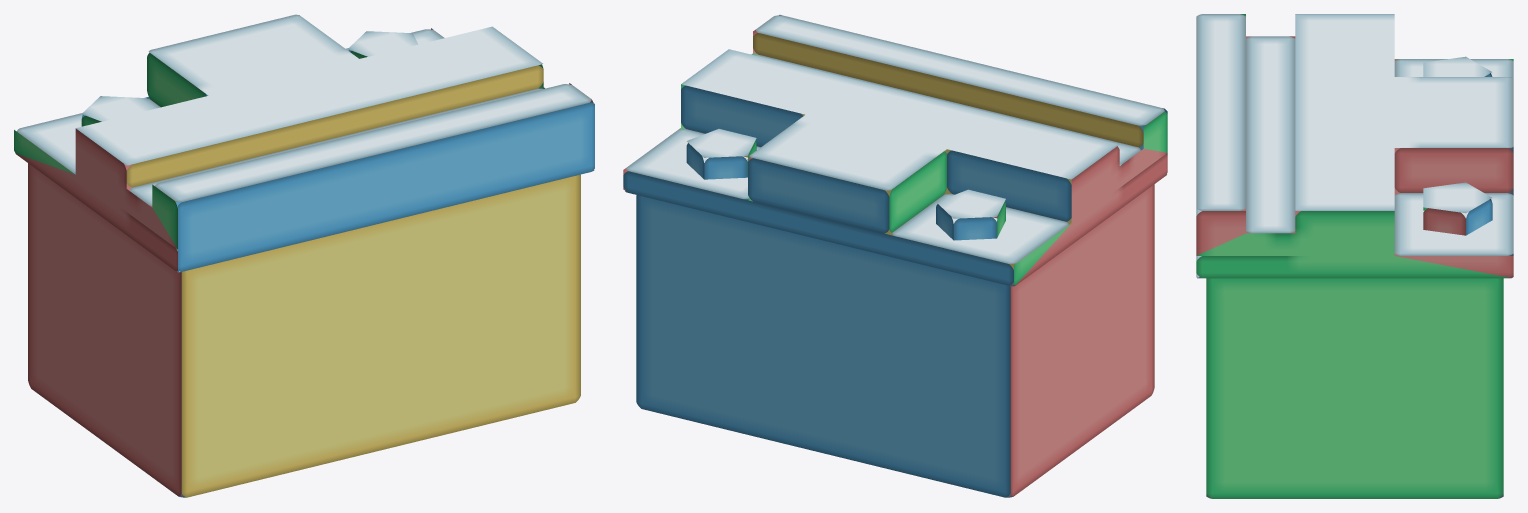
The model's file is BoatBattery.obj.
3 views of the same model, side by side, from view 1: azimuth 30°, elevation 25°; view 2: azimuth 150°, elevation 25°; view 3: azimuth 270°, elevation 25° (orthographic). The views are drawn at different scales.
Visible parts, largest first — view 1: Battery; view 2: Battery; view 3: Battery.
Part boxes in pixels (left/top/right/bottom): Battery: left=14, top=14, right=594, bottom=497; Battery: left=623, top=15, right=1167, bottom=497; Battery: left=1196, top=14, right=1513, bottom=498.
Bounding box in the file's own units: 1.17 × 0.8125 × 0.8.
